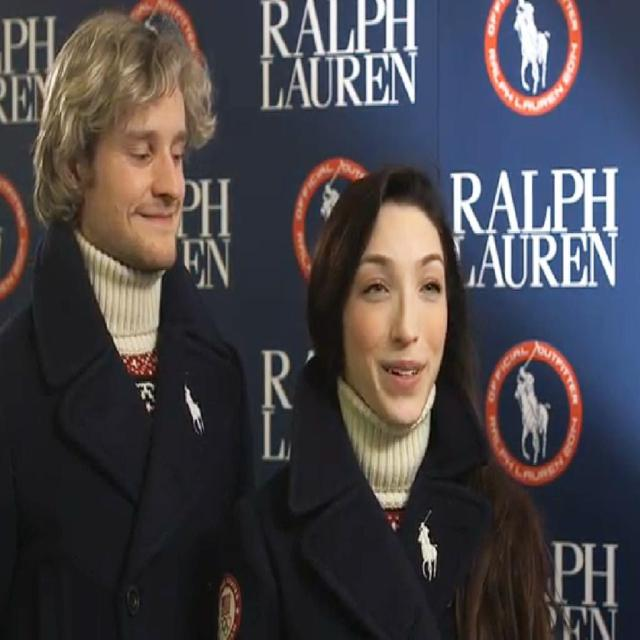Face: (109, 72, 188, 276)
